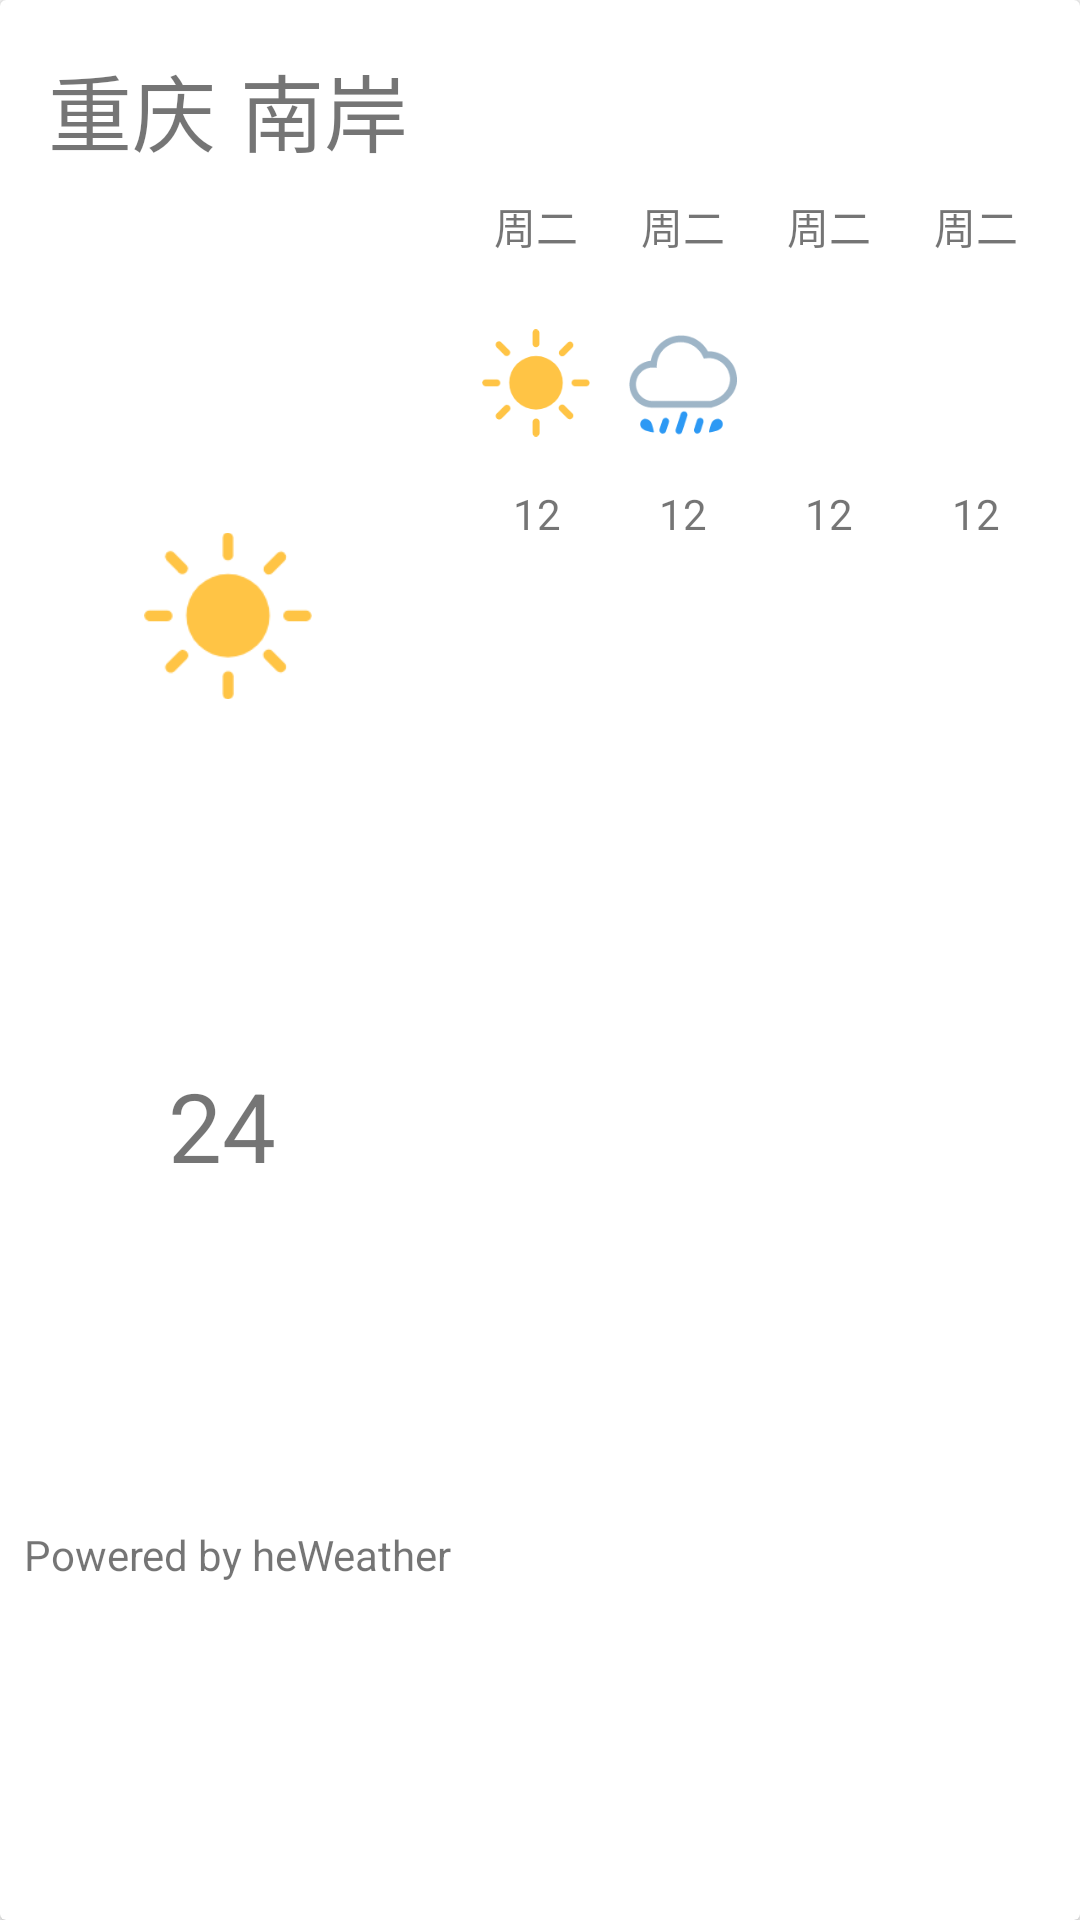

Screen size 1080 x 1920. Icon name, then its box in pixels as (left=x1, top=y1, right=x2, bottom=y2):
weather: (left=482, top=329, right=590, bottom=437), (left=629, top=335, right=737, bottom=435), (left=144, top=533, right=312, bottom=699)
